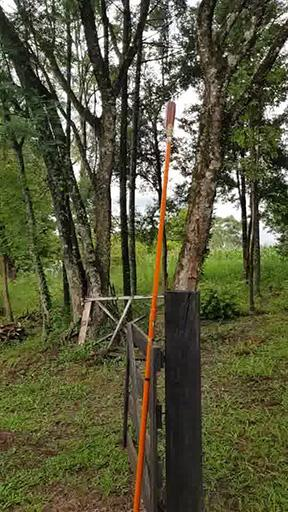Vara_Manobra: (132, 137, 174, 512)
